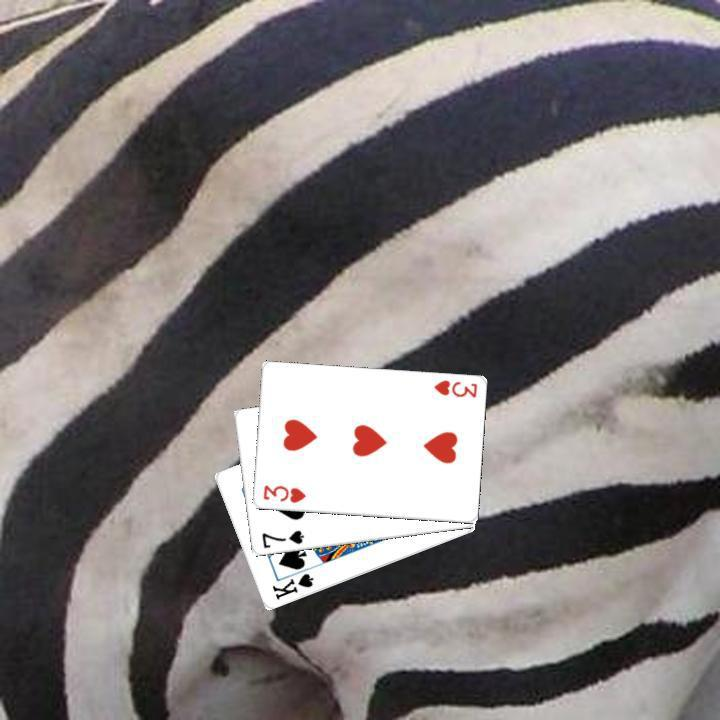3: (429, 376, 478, 400), (259, 481, 307, 505)
7: (257, 526, 305, 551)
K: (267, 569, 316, 602)
